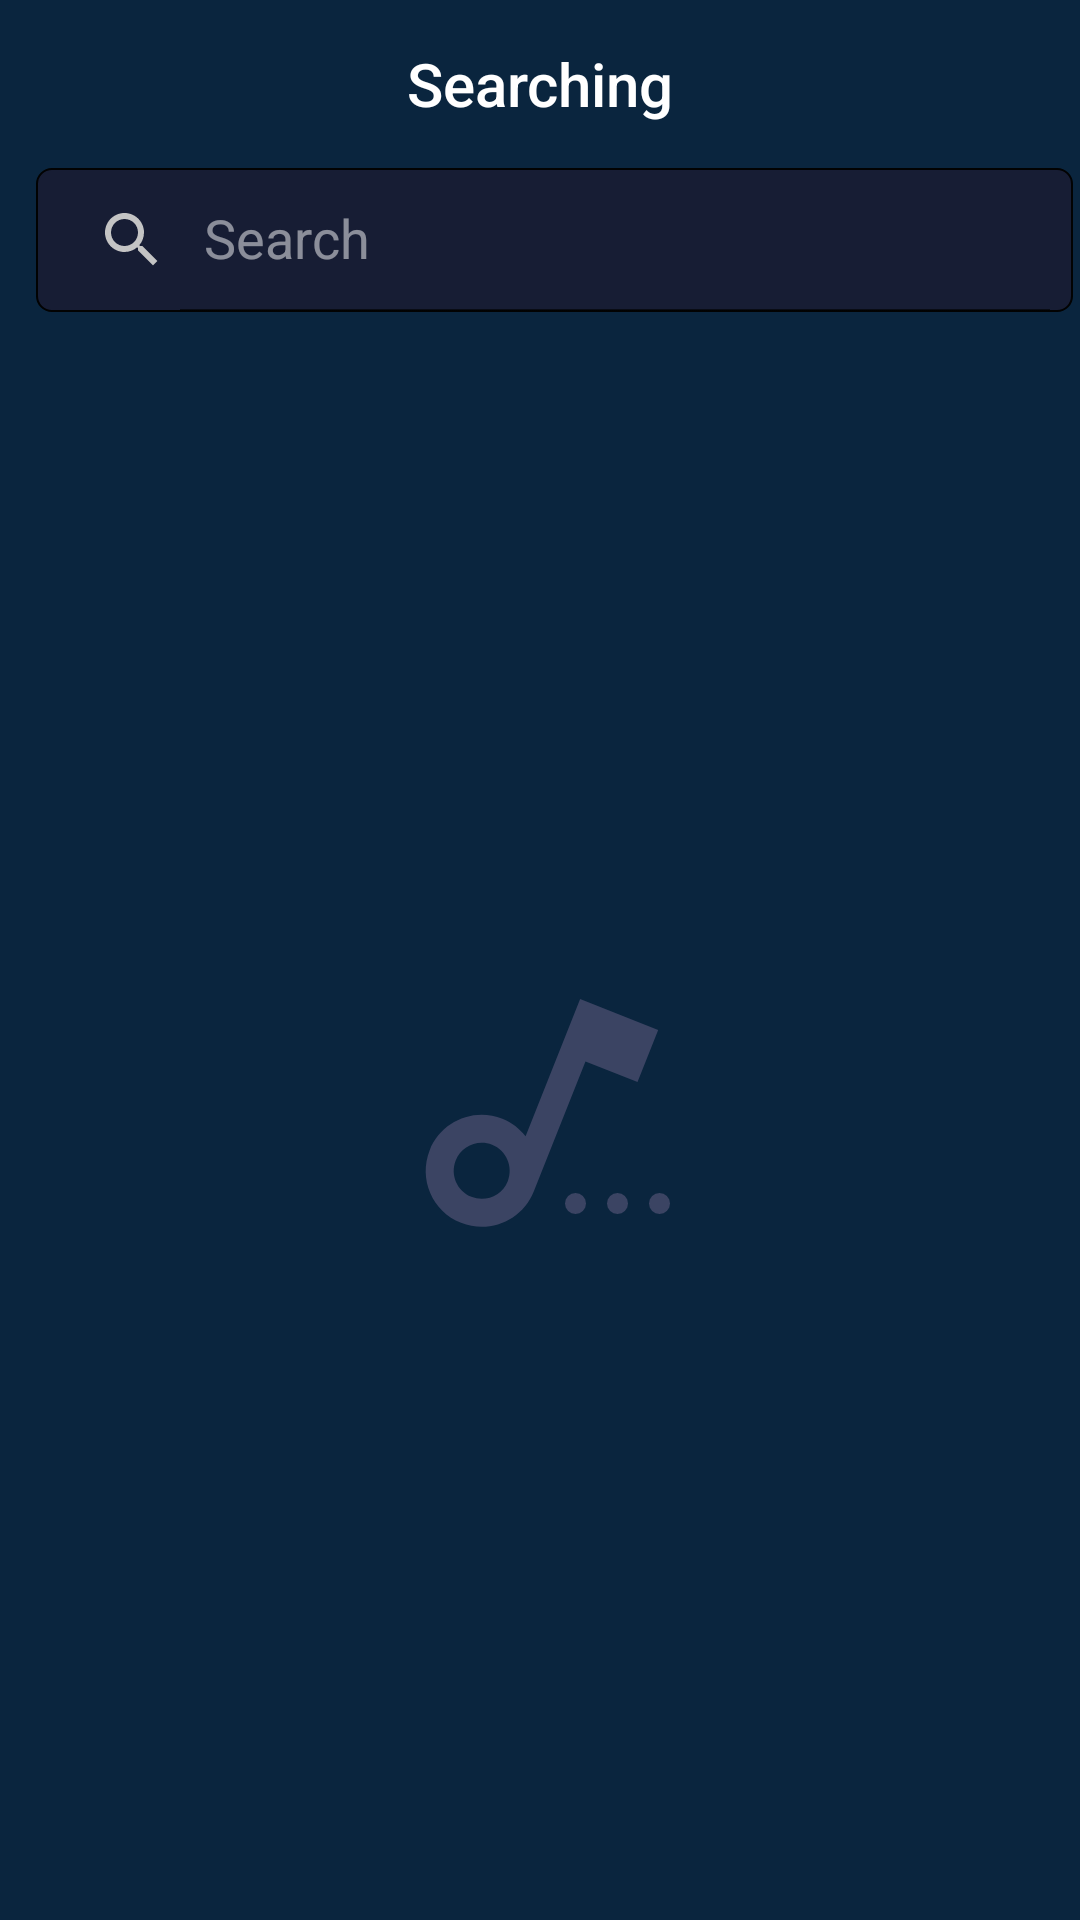

Screen size 1080*1920. Icon name, then its box in pixels as [x1=x1, y1=y1, x2=x2, y2=y2]:
list empty: [x1=426, y1=999, x2=670, y2=1227]
